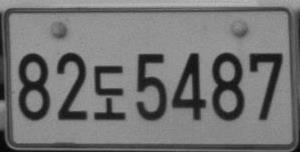2: (56, 51, 88, 120)
4: (170, 52, 207, 120)
5: (135, 53, 167, 120)
7: (248, 51, 284, 120)
8: (17, 52, 51, 121), (212, 51, 244, 121)
도: (93, 64, 126, 120)
